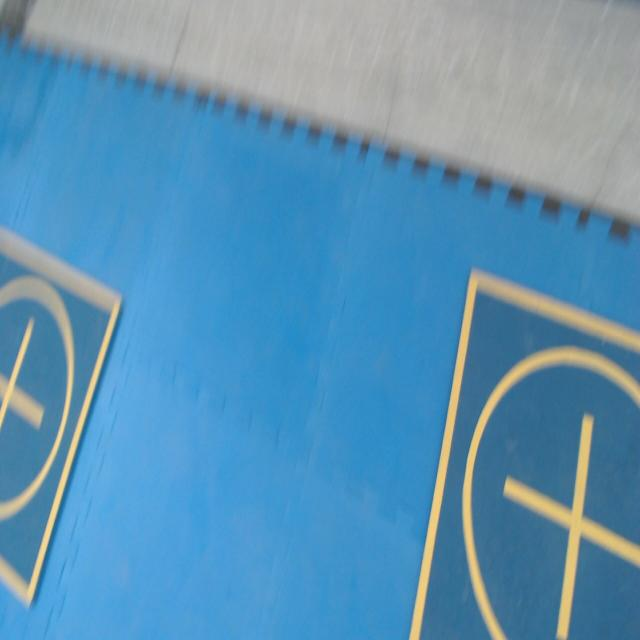base_pouso: (409, 267, 640, 639), (0, 225, 125, 607)
